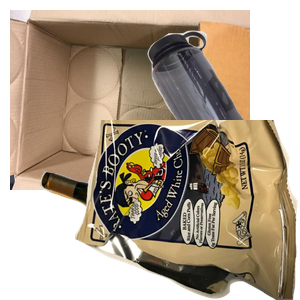cardboard: (10, 10, 250, 190)
glass: (37, 168, 242, 300)
plastic: (145, 28, 300, 192)
trash: (75, 120, 300, 300)
